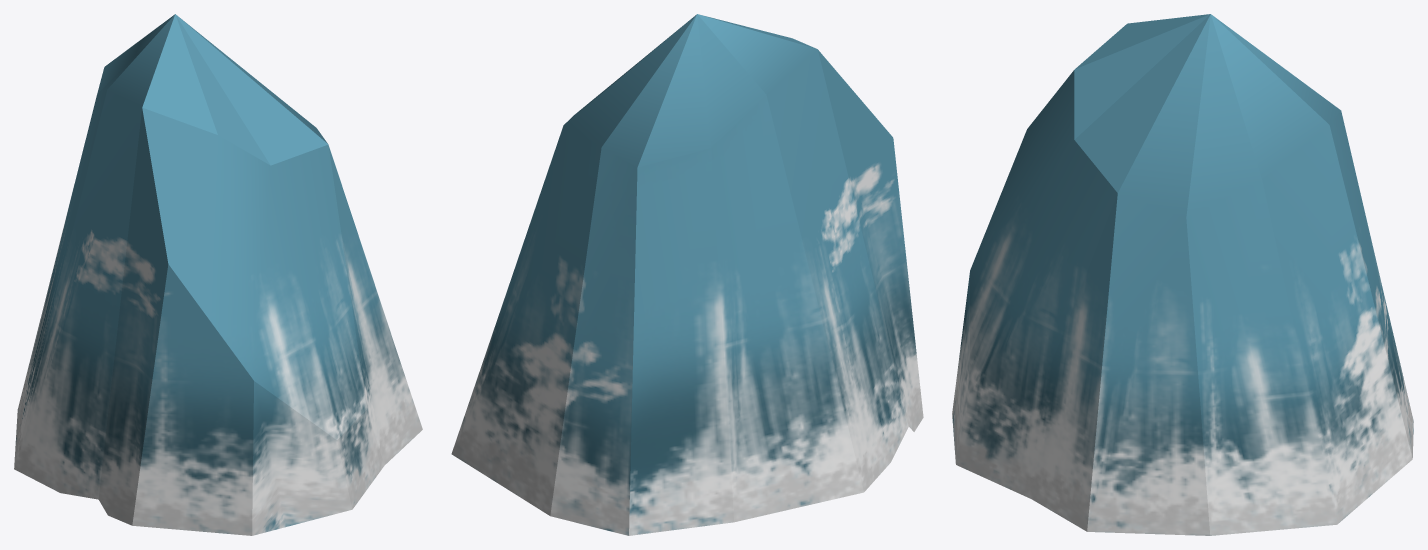
Rendered from ms_iceShape07.fbx.
3 renders of one model, left to right at view 1: azimuth 30°, elevation 25°; view 2: azimuth 150°, elevation 25°; view 3: azimuth 270°, elevation 25°, orthographic. The views are drawn at different scales.
Visible parts, largest first — view 1: polySurface8; view 2: polySurface8; view 3: polySurface8.
Part boxes in pixels (x1,y1,x2,y2): polySurface8: (14, 14, 422, 535); polySurface8: (451, 14, 923, 535); polySurface8: (952, 14, 1413, 535).
Size of the model in its own units: 309 by 347 by 342.
